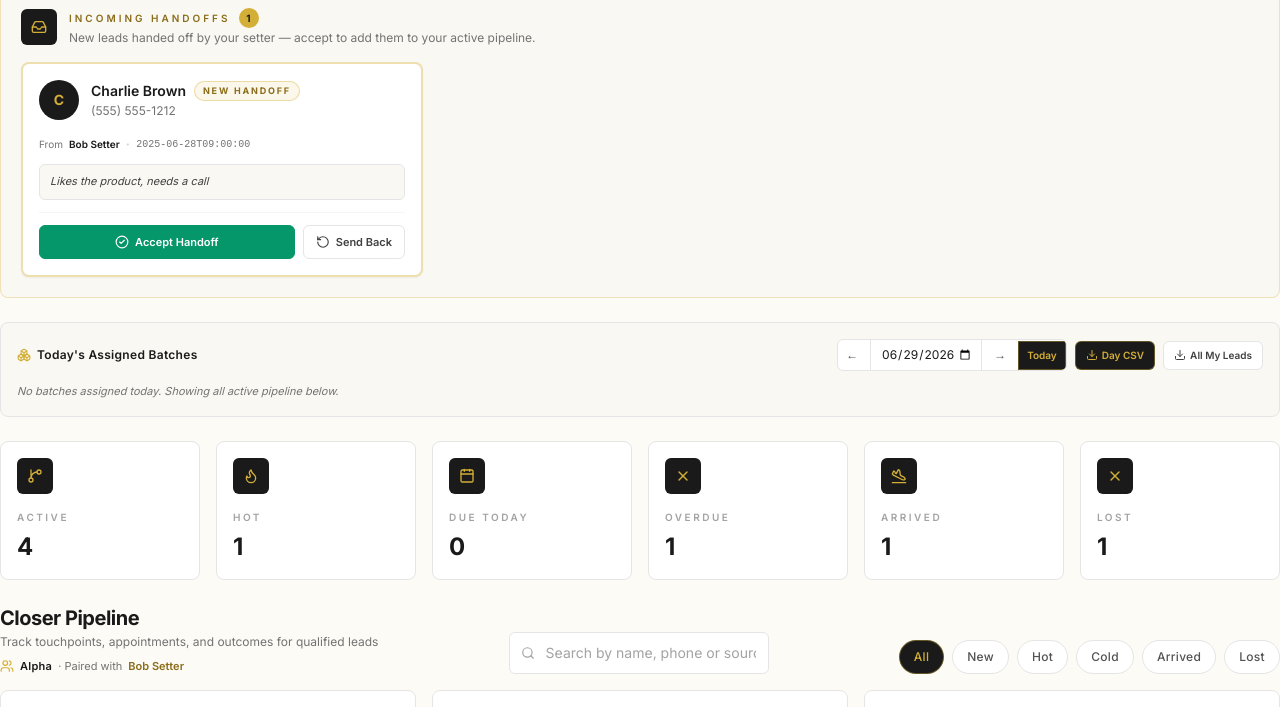
CloserPipelinePage › shows empty state for unmatched search
Type "ZzzzNonexistent" into the field with placeholder "Search by name, phone or source...". click: {"x": 639, "y": 653}
box: [509,632,769,674]
(page scrolled)
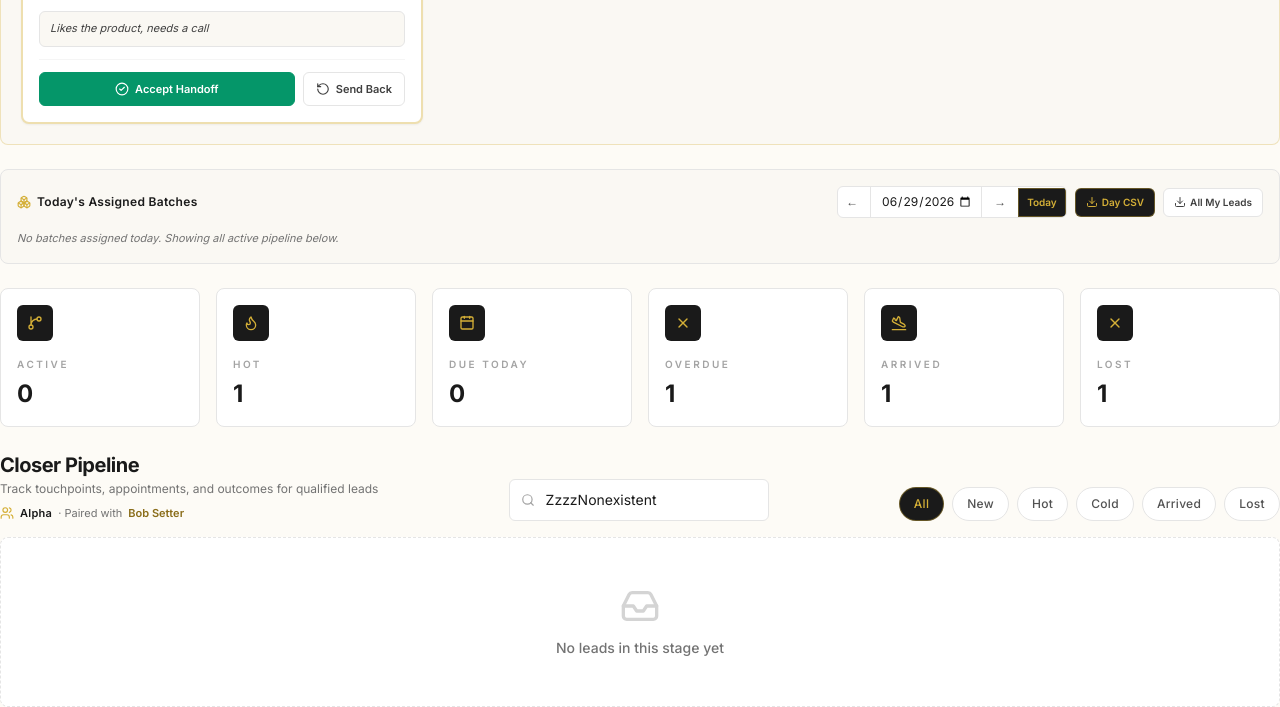
Result: the text "No leads in this stage yet" is shown at [556,639,724,656]
